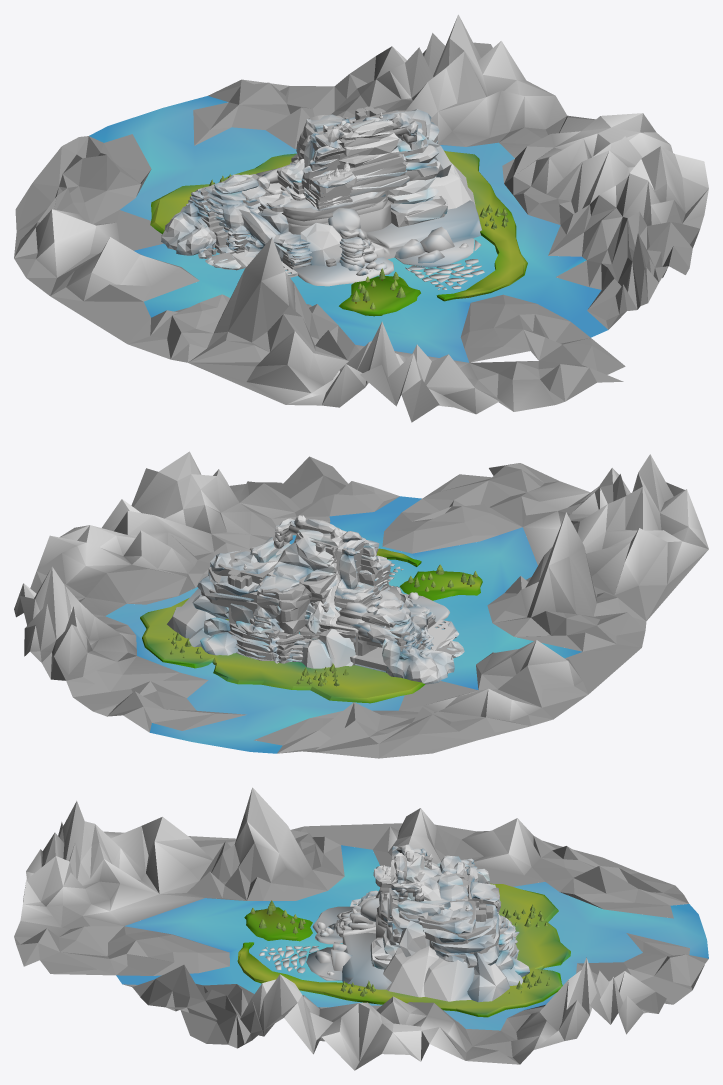
File: Combined Mesh (root_ scene)_5.glb
3 renders of one model, top to bottom at view 1: azimuth 30°, elevation 25°; view 2: azimuth 150°, elevation 25°; view 3: azimuth 270°, elevation 25°, orthographic. The views are drawn at different scales.
Visible parts, largest first — view 1: SubMesh_3, SubMesh_9, SubMesh_5, SubMesh_2, SubMesh_8, SubMesh_7, SubMesh_10, SubMesh_6; view 2: SubMesh_3, SubMesh_10, SubMesh_8, SubMesh_7, SubMesh_2, SubMesh_5, SubMesh_9, SubMesh_6, SubMesh_1; view 3: SubMesh_3, SubMesh_8, SubMesh_9, SubMesh_10, SubMesh_6, SubMesh_2, SubMesh_7.
Boxes of the visible parts, box(x1,y1,x2,y2) form: SubMesh_3: box(14, 14, 708, 422); SubMesh_9: box(256, 167, 484, 290); SubMesh_5: box(198, 176, 342, 277); SubMesh_2: box(161, 174, 268, 255); SubMesh_8: box(344, 106, 475, 227); SubMesh_7: box(277, 128, 356, 209); SubMesh_10: box(290, 114, 406, 175); SubMesh_6: box(350, 113, 440, 203); SubMesh_3: box(14, 451, 708, 758); SubMesh_10: box(249, 519, 355, 663); SubMesh_8: box(167, 537, 289, 660); SubMesh_7: box(301, 531, 391, 668); SubMesh_2: box(350, 607, 454, 684); SubMesh_5: box(353, 591, 464, 660); SubMesh_9: box(330, 563, 449, 642); SubMesh_6: box(249, 515, 306, 584); SubMesh_1: box(331, 541, 358, 665); SubMesh_3: box(14, 787, 708, 1070); SubMesh_8: box(370, 898, 529, 1002); SubMesh_9: box(259, 875, 475, 989); SubMesh_10: box(390, 850, 519, 943); SubMesh_6: box(383, 869, 428, 956); SubMesh_2: box(436, 855, 489, 883); SubMesh_7: box(373, 844, 443, 902).
Bounding box in the file's own units: 872 × 162 × 1016.
